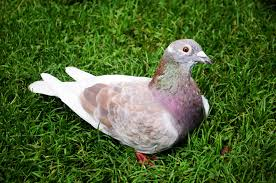pigeon: (28, 38, 216, 164)
